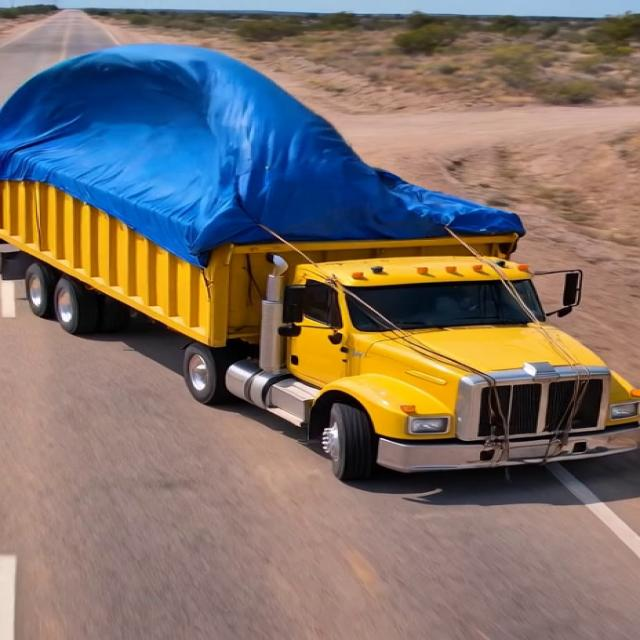Box: (9, 98, 517, 232)
Truck: (8, 88, 612, 496)
